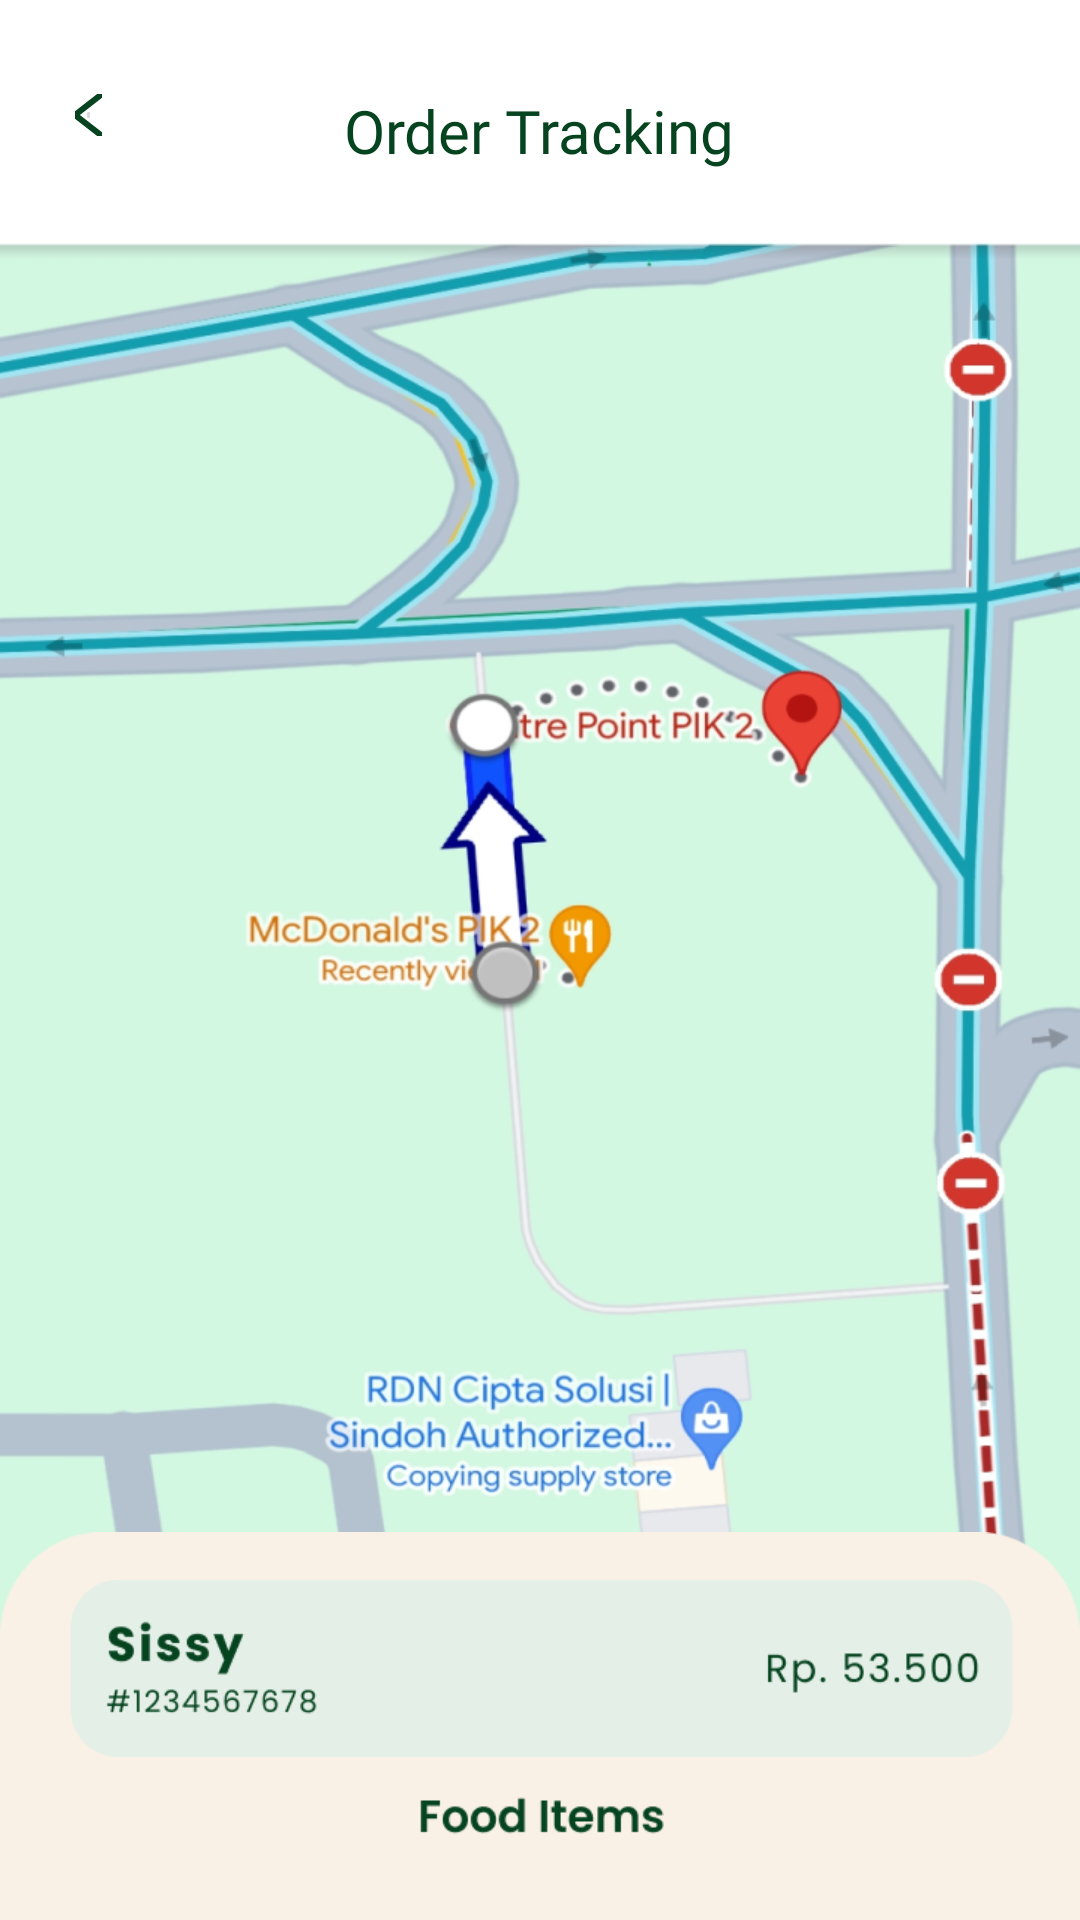

Screen size 1080 x 1920. Icon name, then its box in pixels as (x1, y1, x2, y2):
back: (75, 94, 102, 136)
